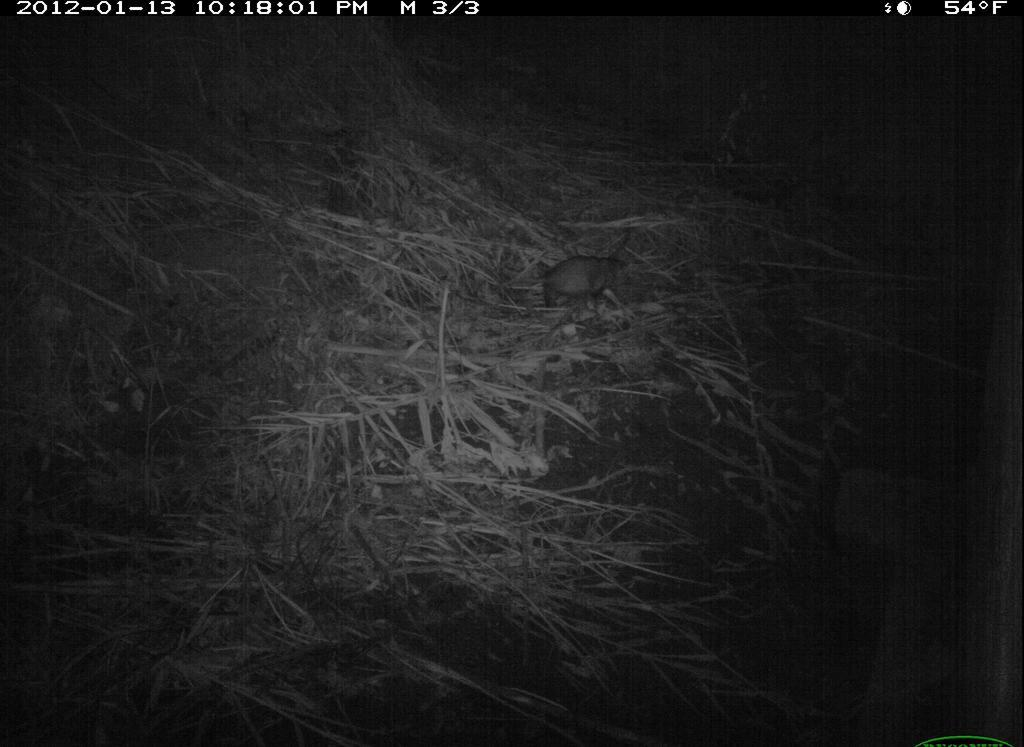opossum: (516, 249, 639, 312)
